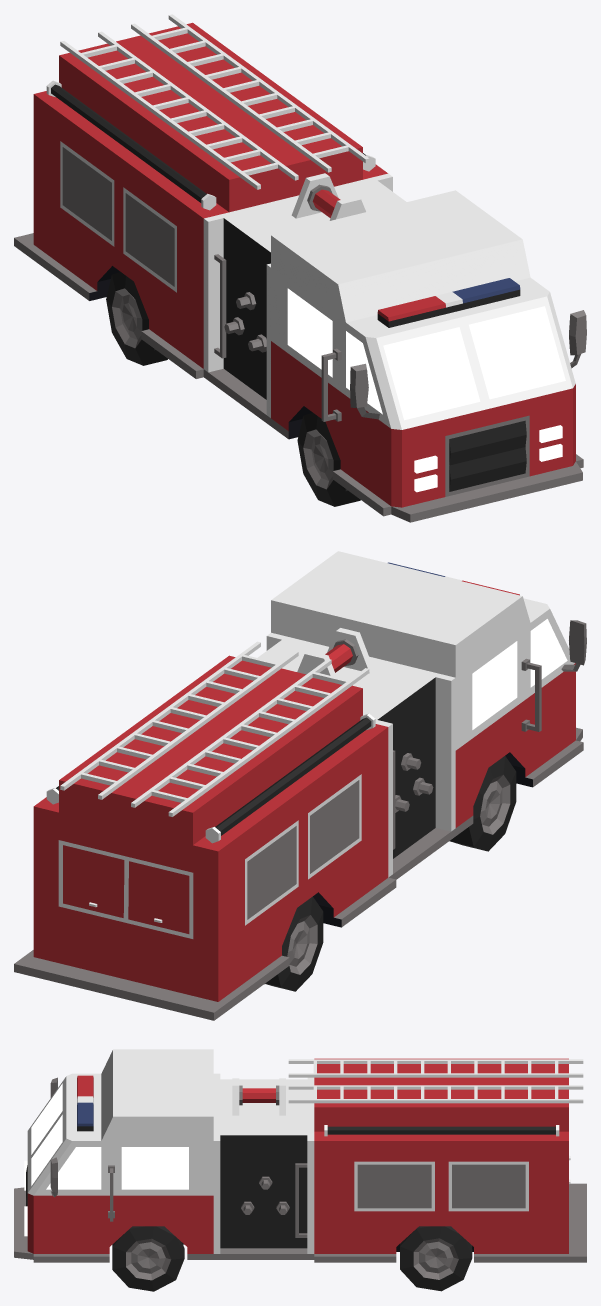
Rendered from vehicles-firetruck.glb.
3 renders of one model, top to bottom at view 1: azimuth 30°, elevation 25°; view 2: azimuth 150°, elevation 25°; view 3: azimuth 270°, elevation 25°, orthographic. The views are drawn at different scales.
Parts seen in each view (by area): view 1: firetruck-base, firetruckwheel_FR, firetruck-wheel_BR; view 2: firetruck-base, firetruckwheel_FR, firetruck-wheel_BR; view 3: firetruck-base, firetruck-wheel_FL, firetruck-wheel_BL.
Boxes of the visible parts, x1=… form: firetruck-base: x1=14, y1=14, x2=586, y2=522; firetruckwheel_FR: x1=297, y1=412, x2=360, y2=506; firetruck-wheel_BR: x1=106, y1=272, x2=167, y2=365; firetruck-base: x1=14, y1=551, x2=586, y2=1020; firetruckwheel_FR: x1=449, y1=756, x2=516, y2=851; firetruck-wheel_BR: x1=264, y1=896, x2=323, y2=991; firetruck-base: x1=14, y1=1049, x2=586, y2=1262; firetruck-wheel_FL: x1=112, y1=1226, x2=184, y2=1291; firetruck-wheel_BL: x1=400, y1=1226, x2=472, y2=1291.
Size of the model in its own units: 3.02 by 2.97 by 8.54.
